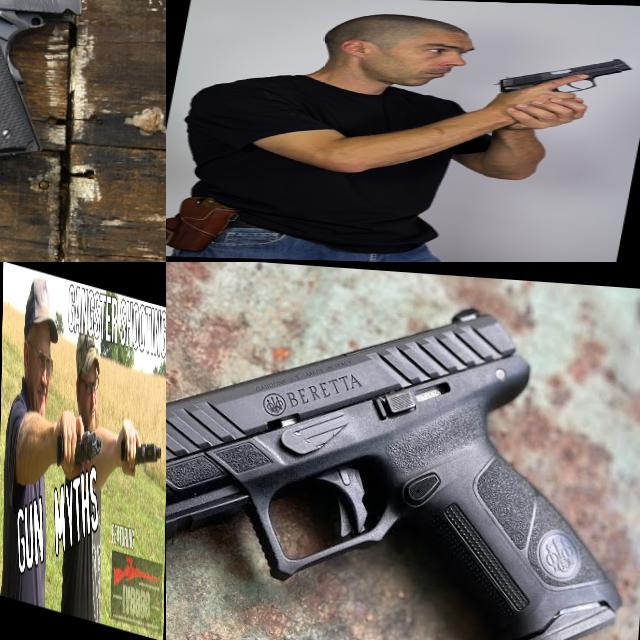handgun: (166, 271, 640, 640), (0, 0, 166, 171), (488, 55, 640, 99), (55, 418, 103, 482), (118, 430, 162, 475)
